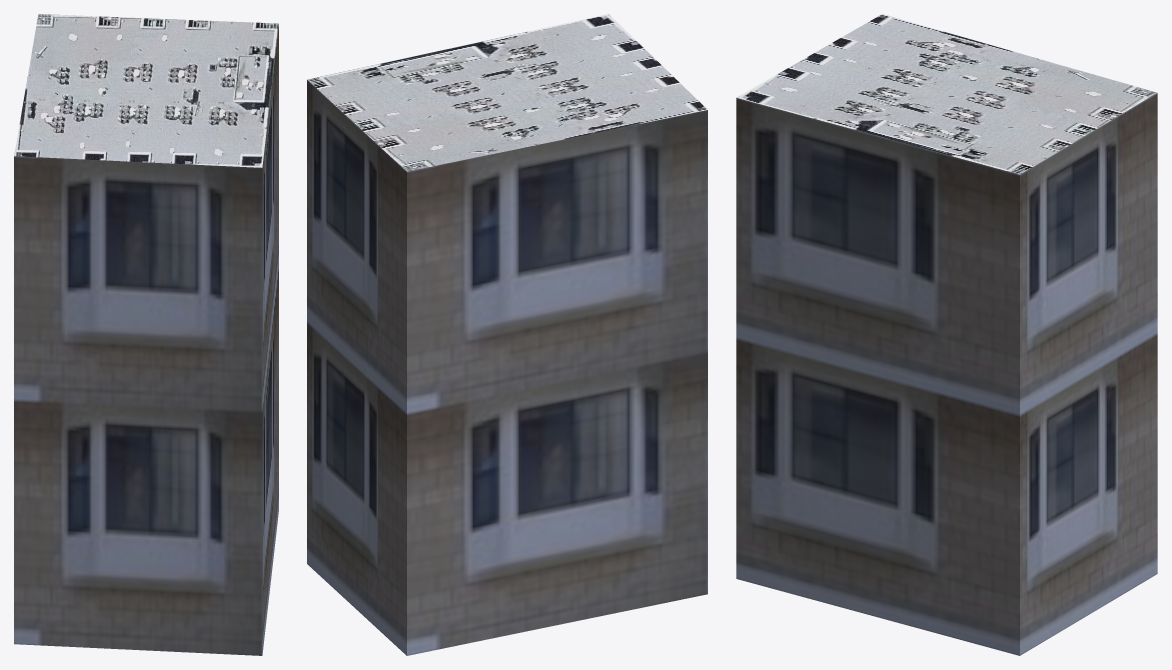
The model's file is ResTex__1841.fbx.
3 views of the same model, side by side, from view 1: azimuth 30°, elevation 25°; view 2: azimuth 150°, elevation 25°; view 3: azimuth 270°, elevation 25° (orthographic).
Visible parts, largest first — view 1: CityEngineMaterial_3_m, CityEngineMaterial_2_m; view 2: CityEngineMaterial_3_m, CityEngineMaterial_2_m; view 3: CityEngineMaterial_3_m, CityEngineMaterial_2_m.
Part boxes in pixels (box(x1,y1,x2,y2)): CityEngineMaterial_3_m: box(14, 24, 278, 655); CityEngineMaterial_2_m: box(14, 14, 278, 167); CityEngineMaterial_3_m: box(307, 80, 707, 655); CityEngineMaterial_2_m: box(307, 14, 707, 171); CityEngineMaterial_3_m: box(736, 93, 1157, 655); CityEngineMaterial_2_m: box(736, 14, 1157, 174).
Bounding box in the file's own units: 4.3 × 6 × 4.76.
2 materials, 2 textured.
